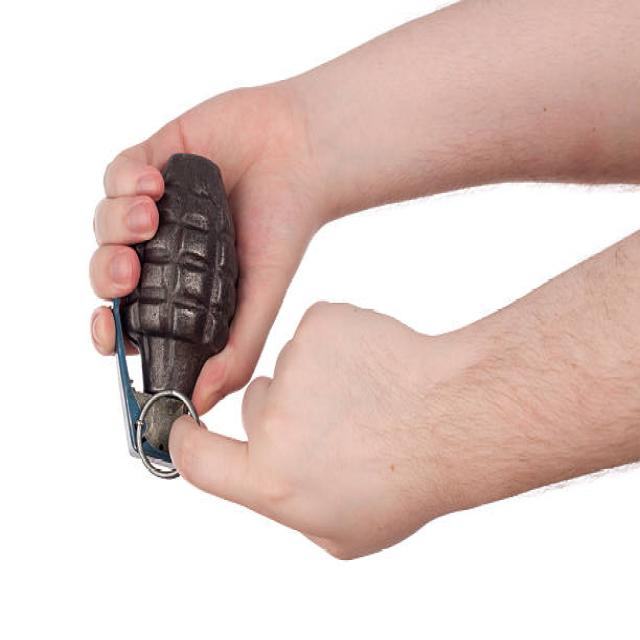grenade: (106, 151, 244, 487)
